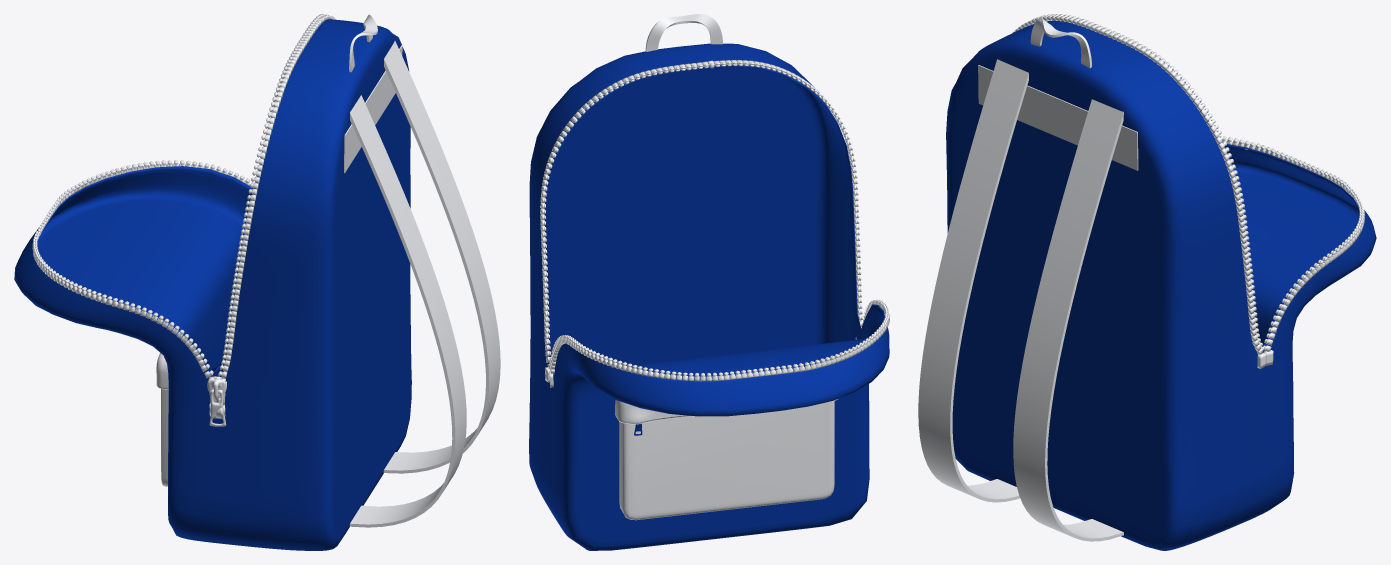
The model's file is mochila_abierta (1).FBX.
3 views of the same model, side by side, from view 1: azimuth 30°, elevation 25°; view 2: azimuth 150°, elevation 25°; view 3: azimuth 270°, elevation 25° (orthographic). The views are drawn at different scales.
Parts seen in each view (by area): view 1: base, asa2, asa1, cremallera, Box001, bolsilloext; view 2: base, bolsilloext, cremallera, asasup; view 3: base, asa2, asa1, cremallera, Box001, asasup.
Boxes of the visible parts, x1=… form: base: x1=14, y1=19, x2=411, y2=550; asa2: x1=349, y1=95, x2=466, y2=527; asa1: x1=383, y1=41, x2=500, y2=473; cremallera: x1=32, y1=14, x2=336, y2=426; Box001: x1=344, y1=45, x2=402, y2=173; bolsilloext: x1=156, y1=353, x2=168, y2=486; base: x1=529, y1=43, x2=889, y2=550; bolsilloext: x1=615, y1=398, x2=838, y2=520; cremallera: x1=540, y1=60, x2=889, y2=387; asasup: x1=645, y1=14, x2=722, y2=51; base: x1=946, y1=20, x2=1376, y2=550; asa2: x1=918, y1=59, x2=1028, y2=502; asa1: x1=1013, y1=99, x2=1123, y2=541; cremallera: x1=1013, y1=14, x2=1365, y2=368; Box001: x1=978, y1=65, x2=1138, y2=170; asasup: x1=1030, y1=17, x2=1091, y2=68.
Size of the model in its own units: 41.19 by 48 by 40.74.
